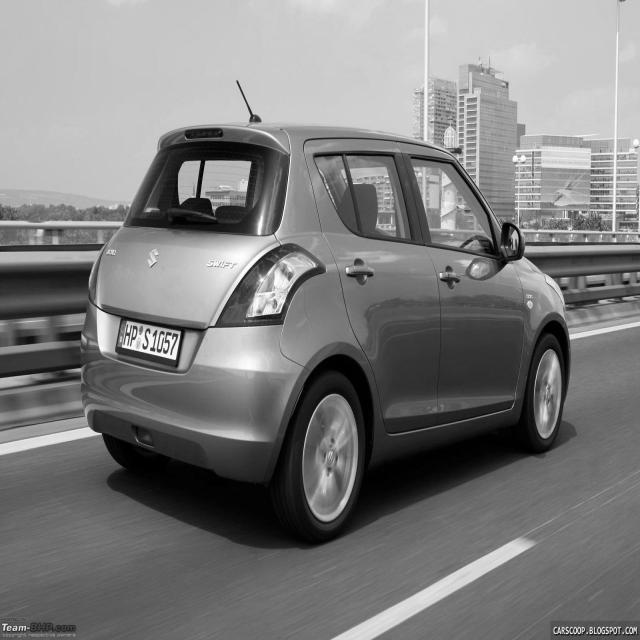car: (77, 119, 575, 550)
license-plate: (117, 317, 182, 366)
